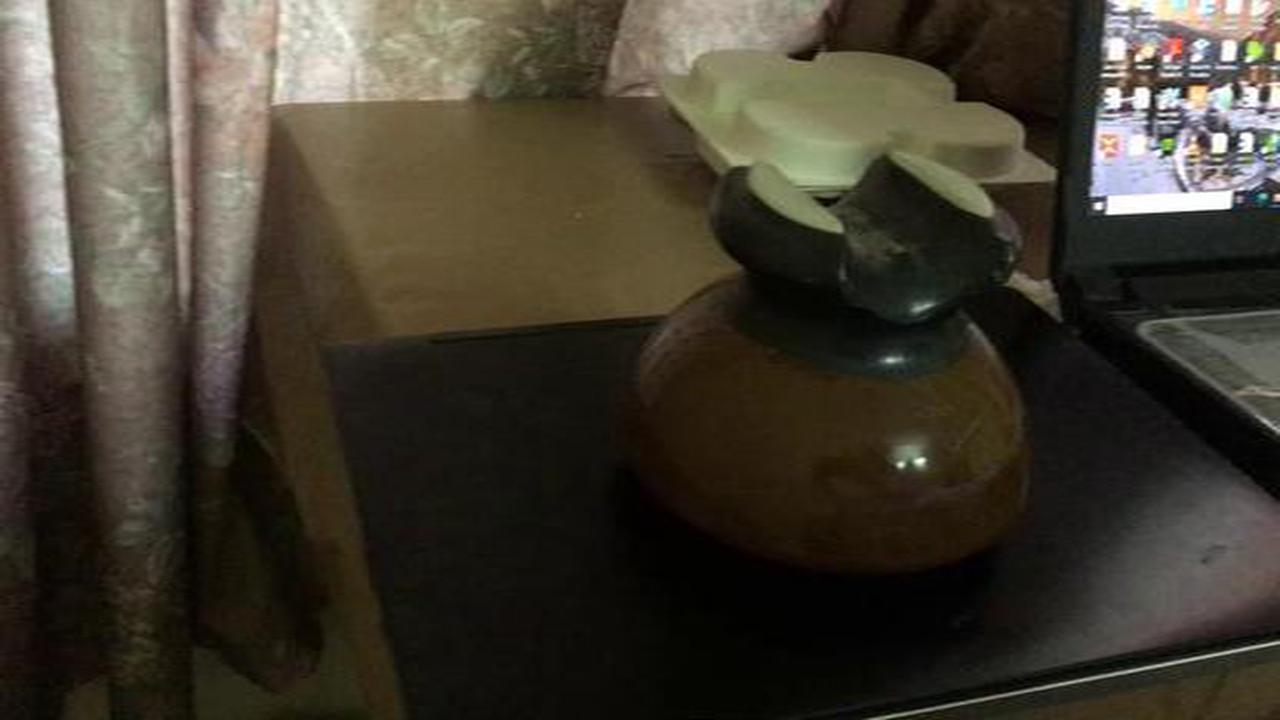insulator_pin: (604, 134, 1074, 601)
